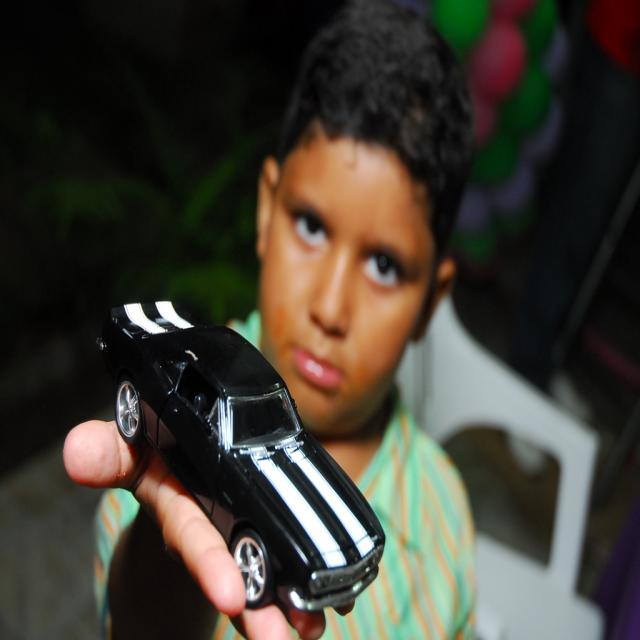other: (106, 284, 376, 612)
